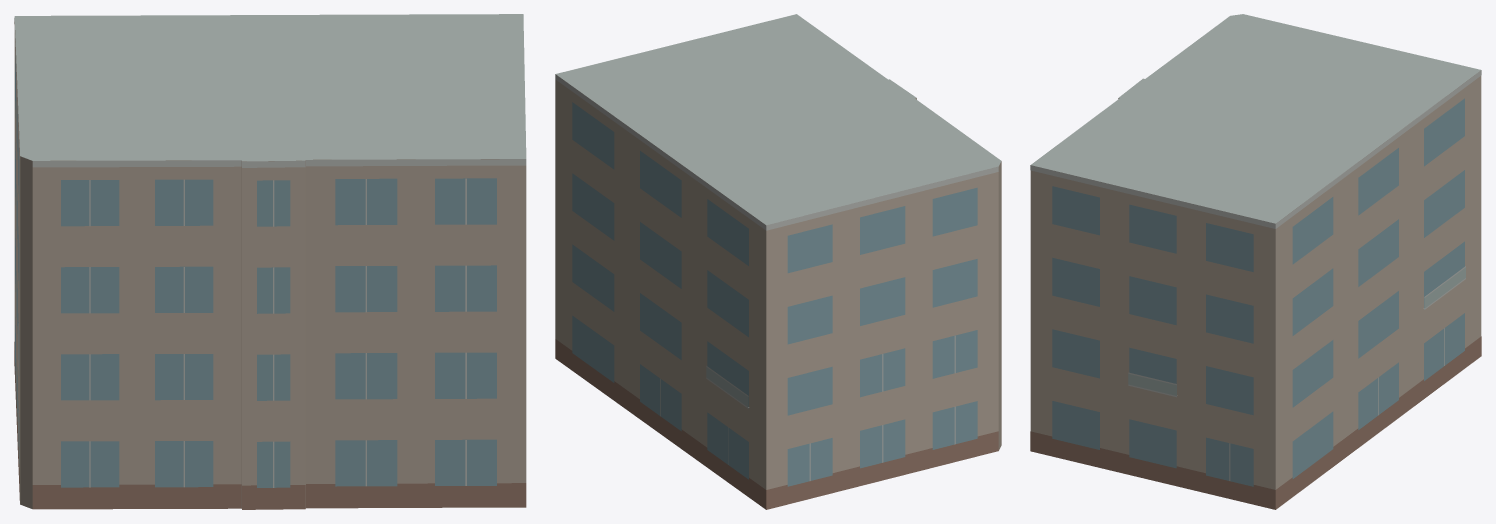
Rendered from survey-upis-32670094.glb.
3 views of the same model, side by side, from view 1: azimuth 30°, elevation 25°; view 2: azimuth 150°, elevation 25°; view 3: azimuth 270°, elevation 25° (orthographic). The views are drawn at different scales.
Parts seen in each view (by area): view 1: survey-upis-32670094.tmp; view 2: survey-upis-32670094.tmp; view 3: survey-upis-32670094.tmp.
Part boxes in pixels (x1,y1,x2,y2): survey-upis-32670094.tmp: (14,14,526,509); survey-upis-32670094.tmp: (555,14,1001,509); survey-upis-32670094.tmp: (1030,14,1481,509).
Bounding box in the file's own units: 20.36 × 12.95 × 18.5.
